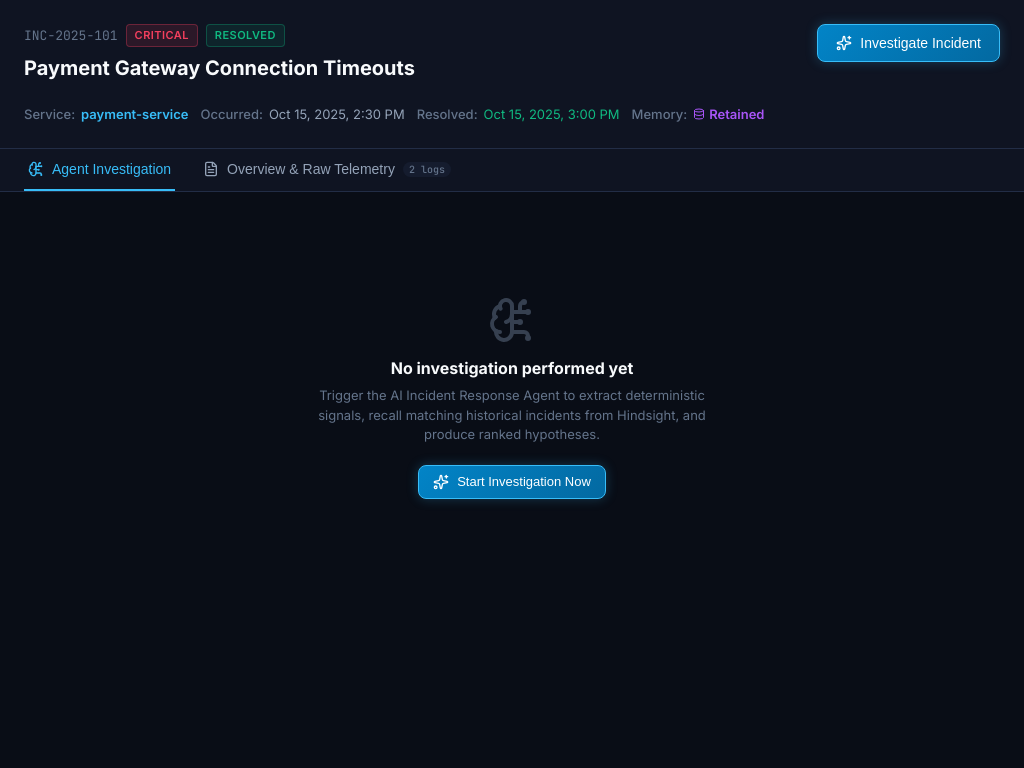
Test: IncidentDetail Component › renders postmortem findings with Hindsight Retained badge when memory_status is retained
Switch to overview tab
Click the button "Overview & Raw Telemetry 2 logs" at [327, 170], box [199,149,455,191]
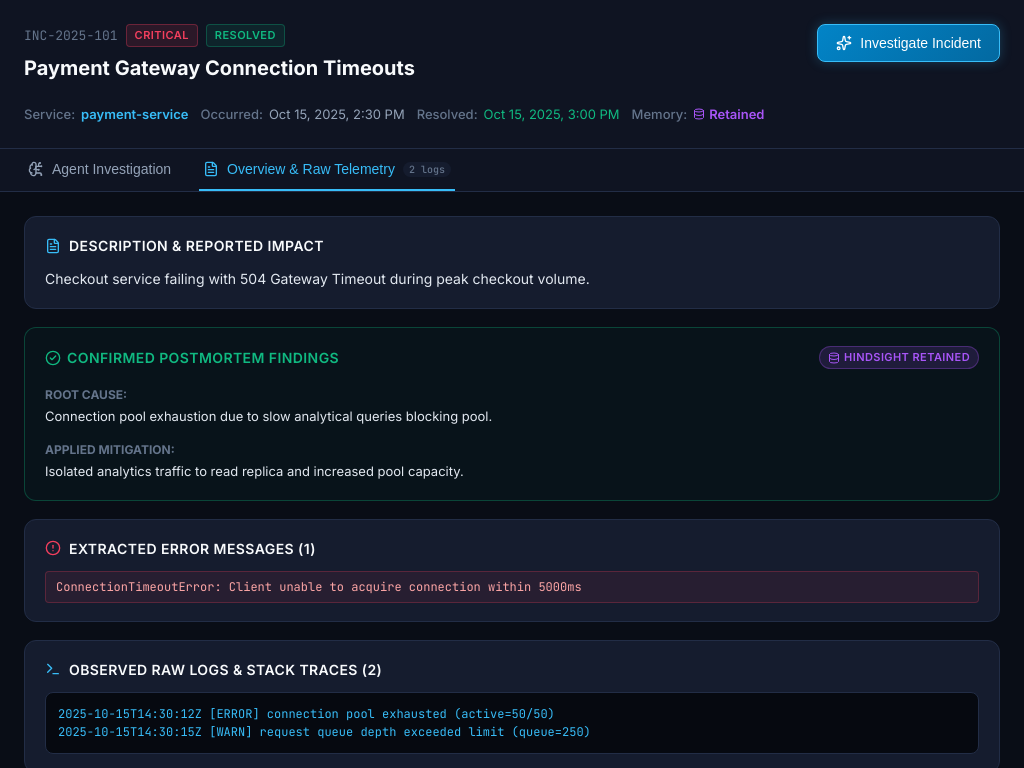
Expected: the text "Confirmed Postmortem Findings" is shown, [67,347,339,368]
Expected: the text "Hindsight Retained" is shown, [819,346,979,369]
Expected: the text "Root Cause:" is shown, [45,387,127,402]
